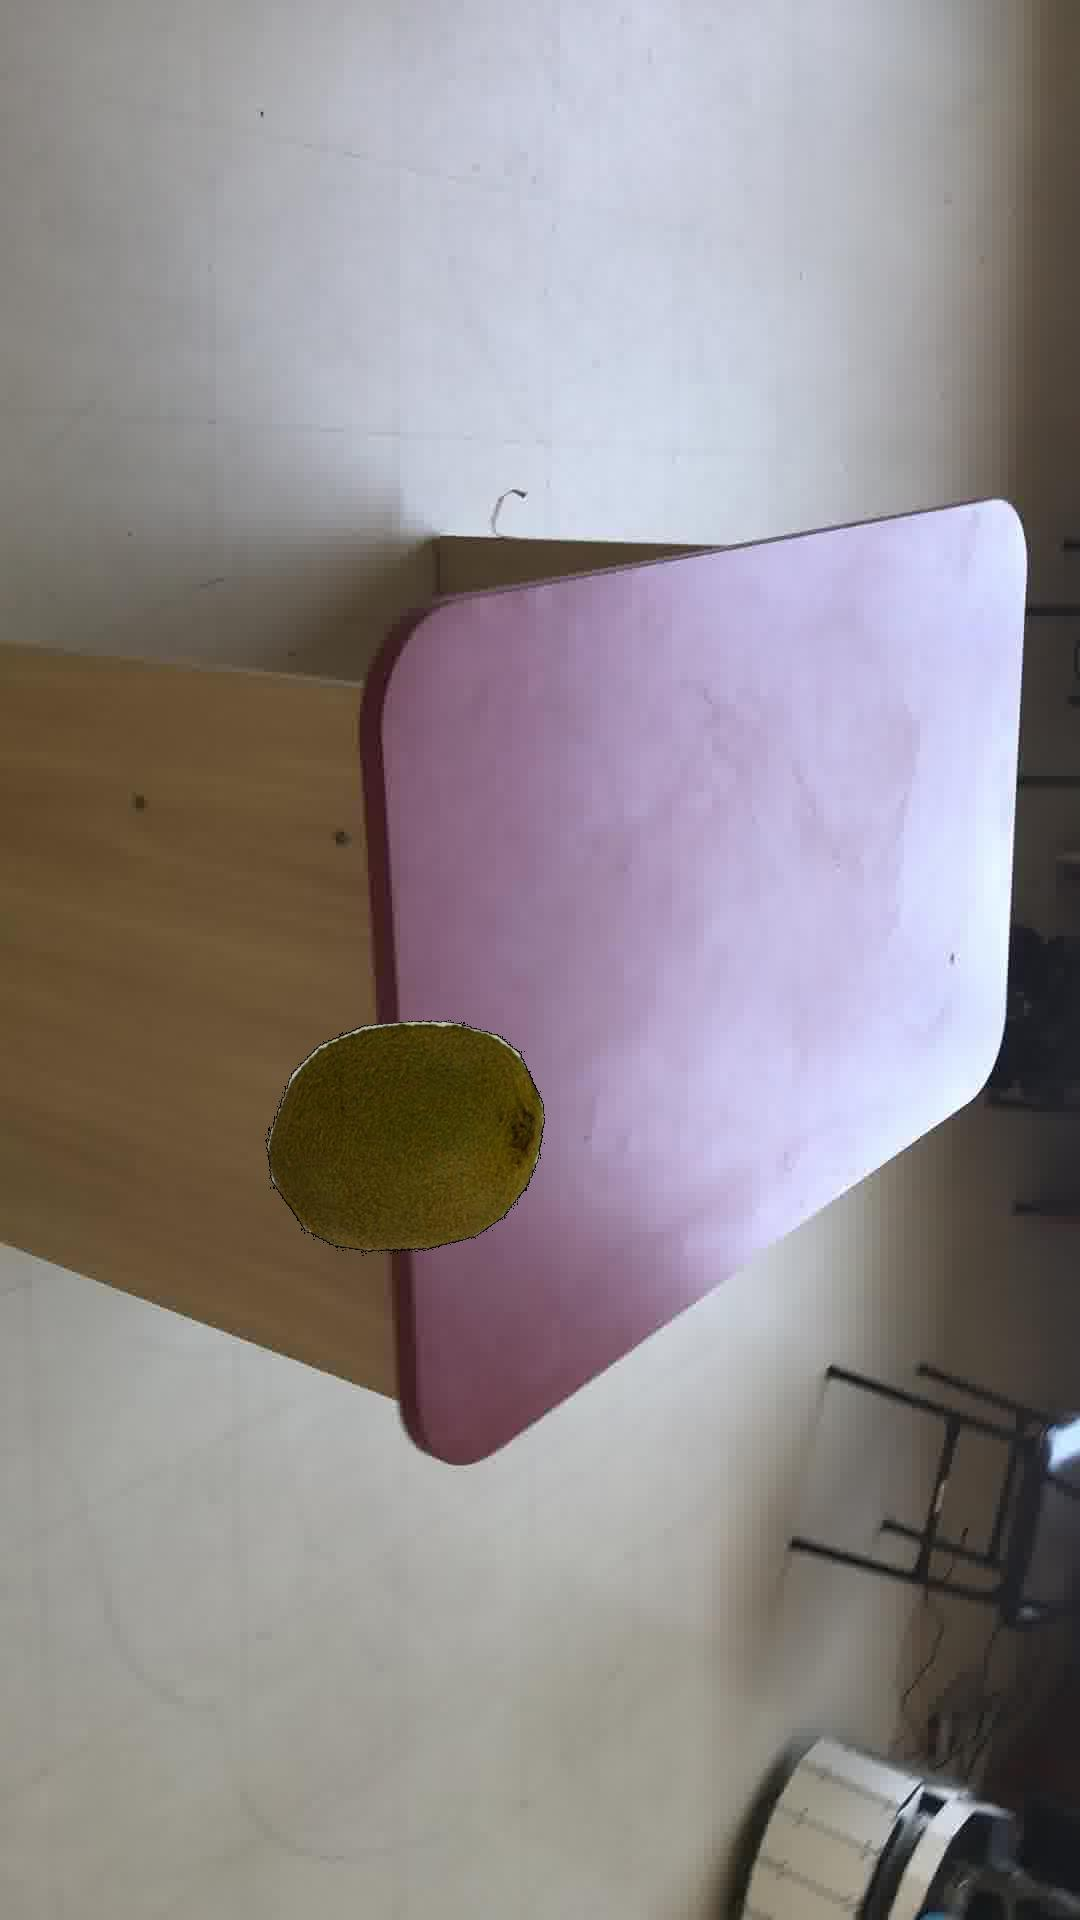kiwi: (265, 1018, 543, 1250)
